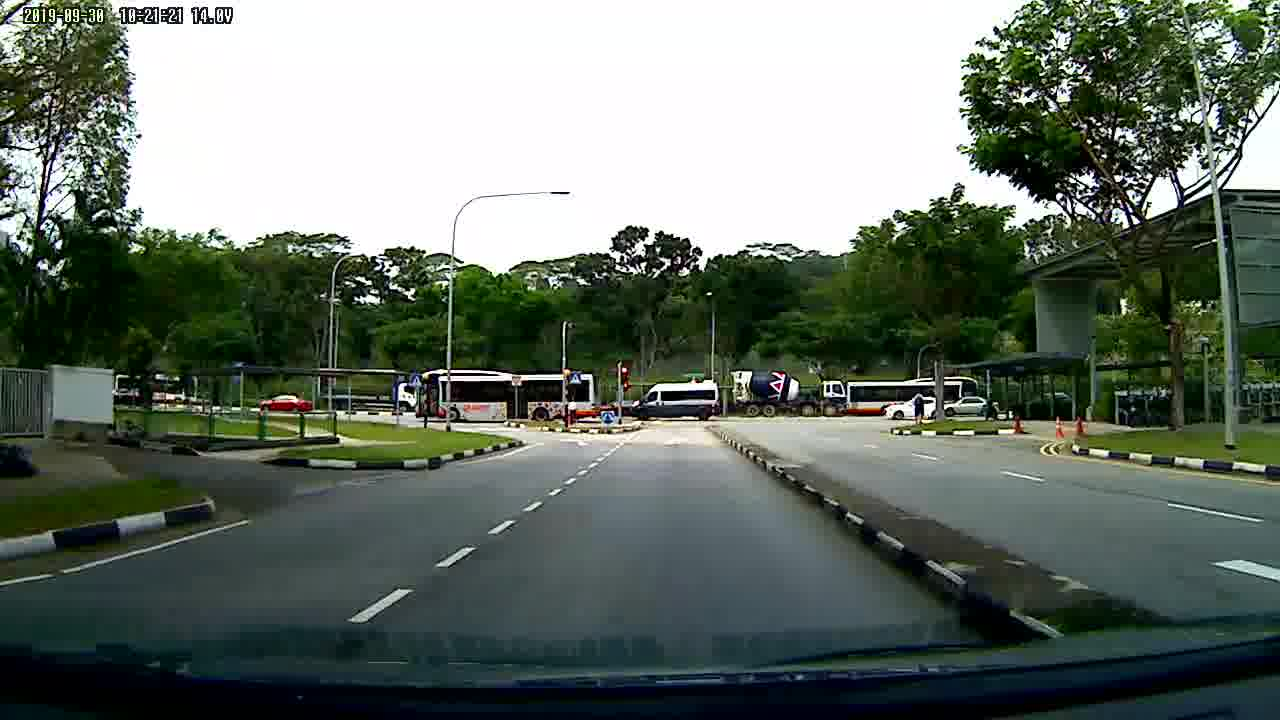bus: (418, 369, 598, 429), (846, 375, 978, 413)
car: (256, 394, 318, 413), (944, 396, 1001, 414)
